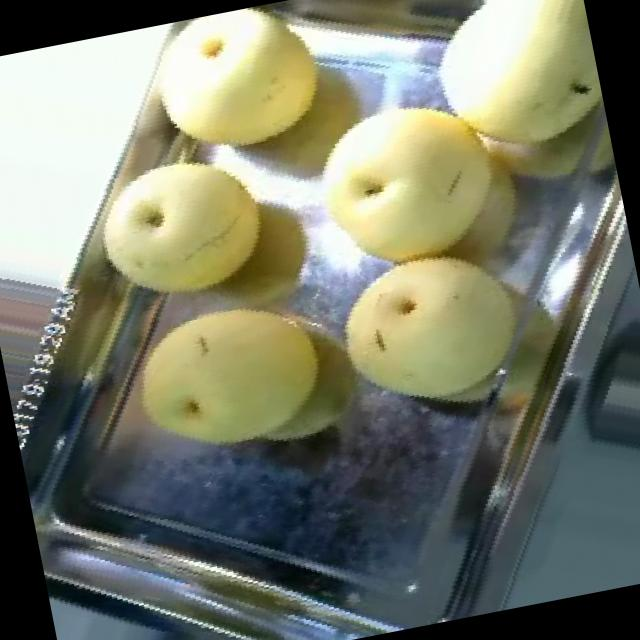Fruit: (86, 256, 369, 514), (280, 61, 538, 298), (305, 215, 561, 444), (60, 110, 306, 343), (395, 0, 621, 229), (117, 0, 359, 196)
